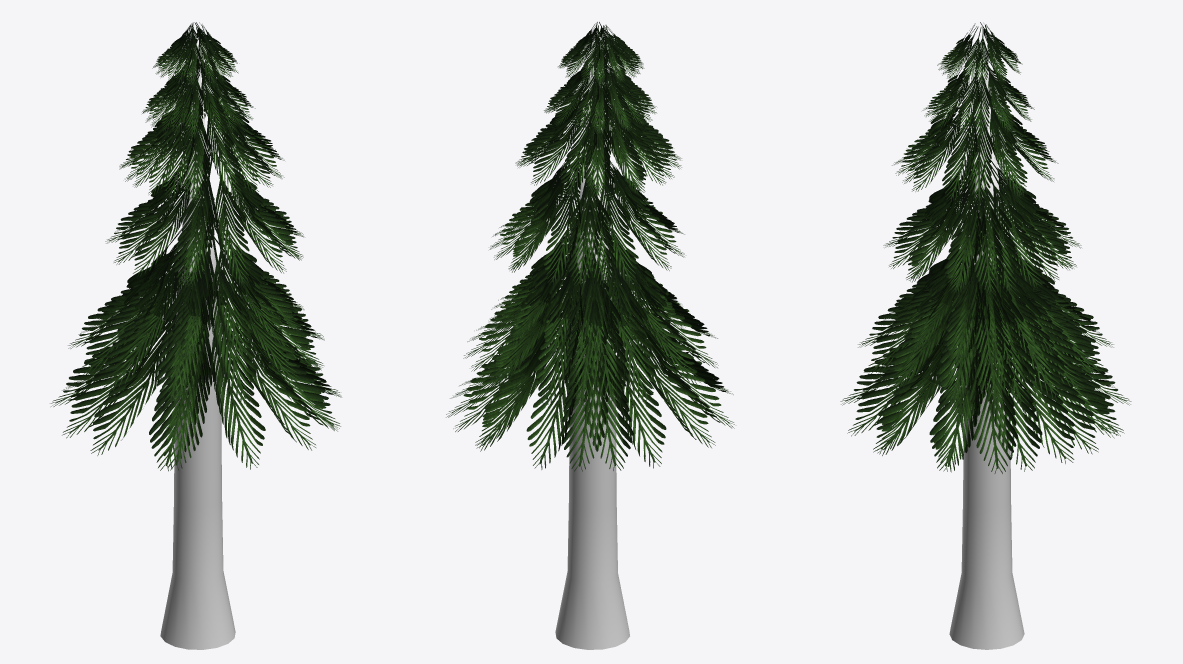
The model's file is projeto arvore prefab4.fbx.
3 renders of one model, left to right at view 1: azimuth 30°, elevation 25°; view 2: azimuth 150°, elevation 25°; view 3: azimuth 270°, elevation 25°, orthographic.
Visible parts, largest first — view 1: Pinheiro.680, Pinheiro.546; view 2: Pinheiro.680, Pinheiro.546; view 3: Pinheiro.680, Pinheiro.546.
Boxes of the visible parts, x1,y1,x2,y2 form: Pinheiro.680: (50, 22, 341, 471); Pinheiro.546: (160, 42, 235, 649); Pinheiro.680: (446, 22, 734, 471); Pinheiro.546: (555, 48, 629, 649); Pinheiro.680: (840, 22, 1131, 473); Pinheiro.546: (949, 48, 1024, 649).
Bounding box in the file's own units: 992 × 1844 × 997.
2 materials, 1 textured.
